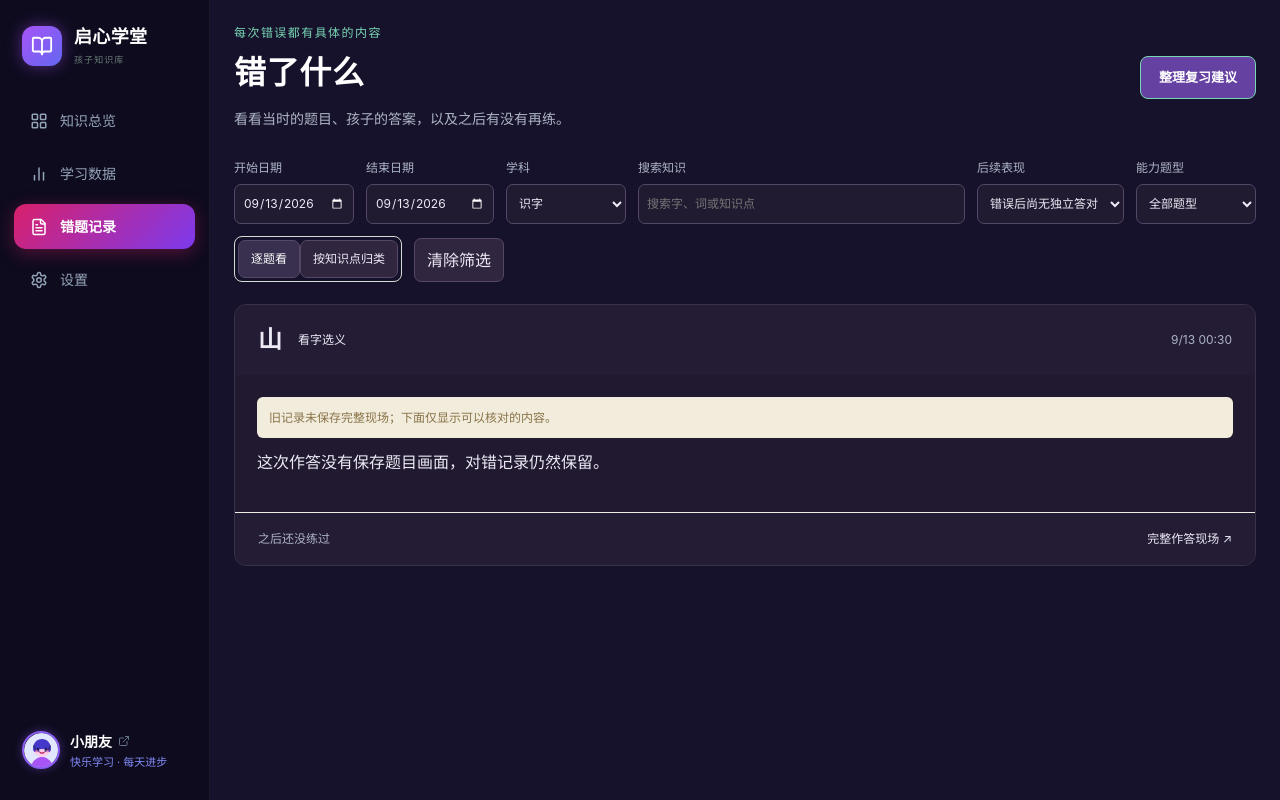
Scenario: sends date/unresolved filters and returns from an attempt to the same filters
Click the link "完整作答现场 ↗" at (1190, 539), box x1=1147 y1=530 x2=1232 y2=548
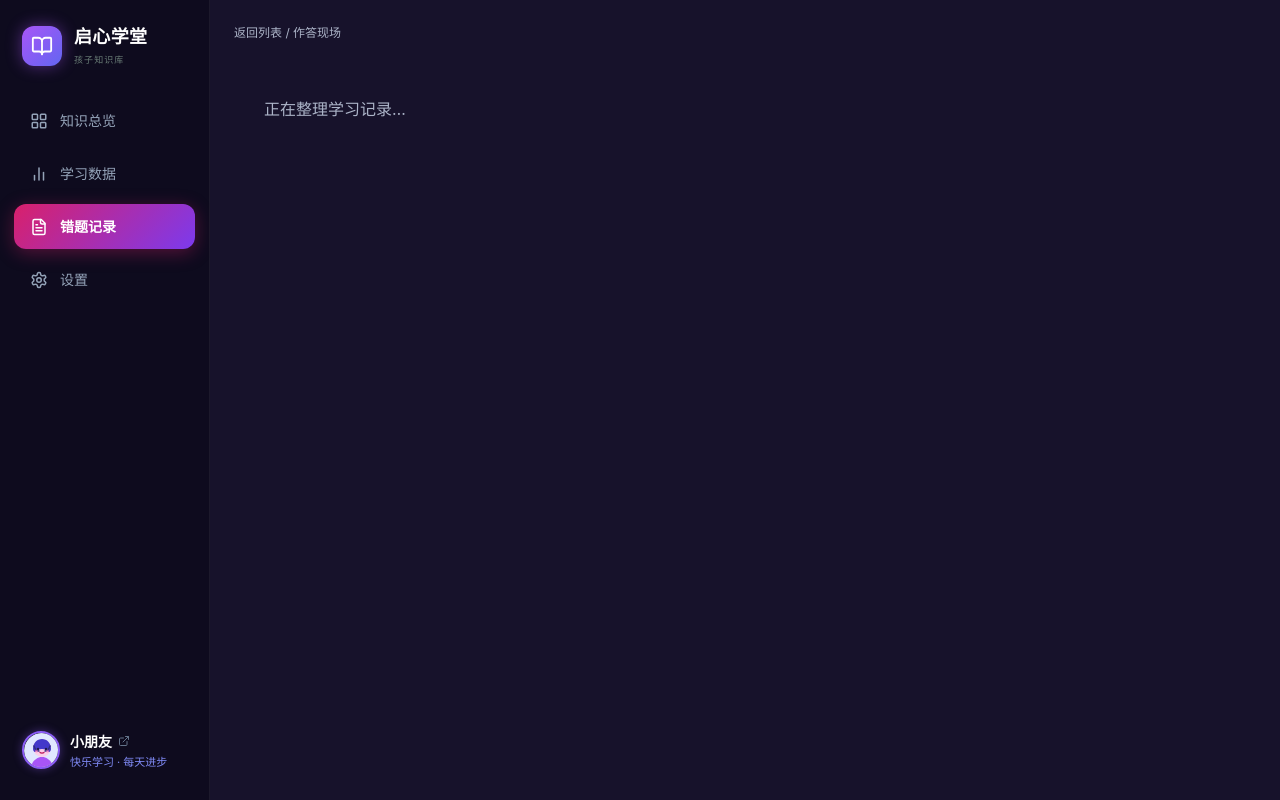
Click the link "返回列表" at (258, 32), box x1=234 y1=25 x2=282 y2=40
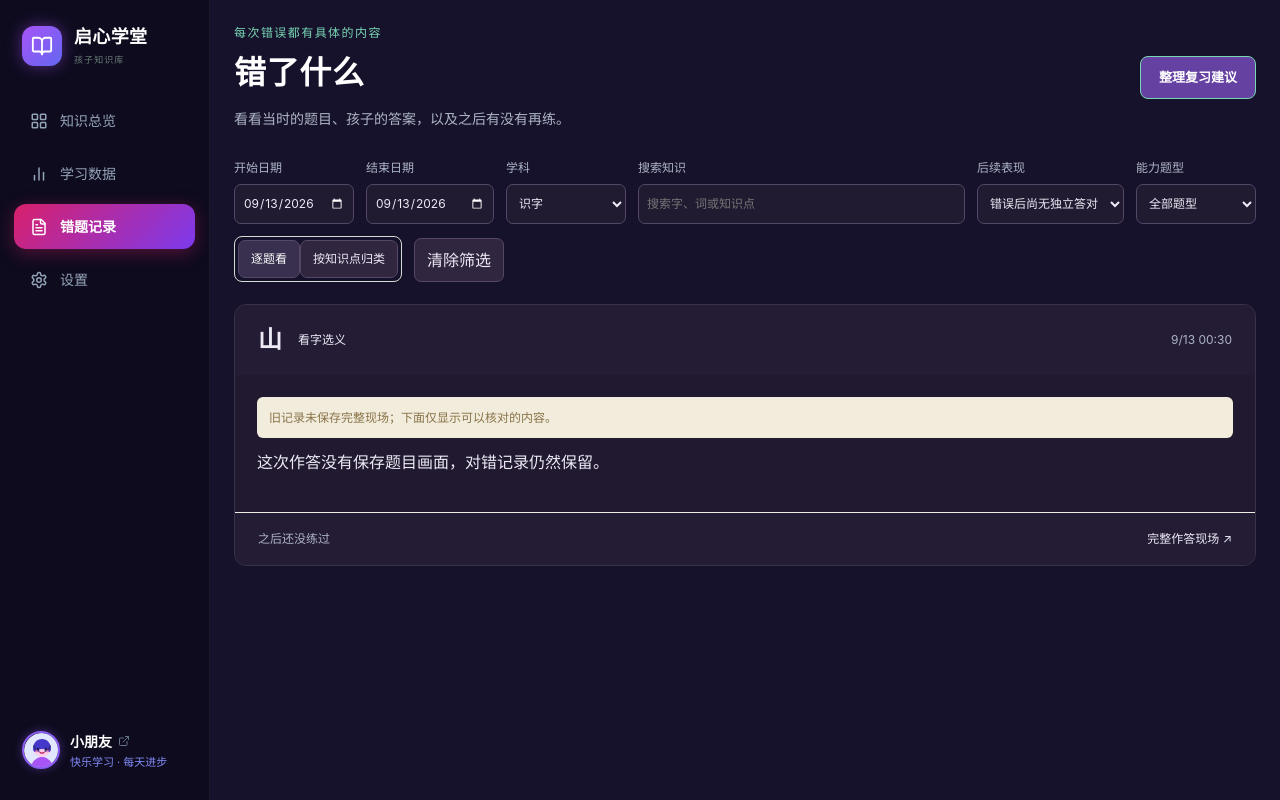
Expected: the date field labelled "开始日期" holds "2026-09-13", x1=234 y1=184 x2=354 y2=224
Expected: the dropdown labelled "后续表现" shows "错误后尚无独立答对", x1=977 y1=184 x2=1124 y2=224
